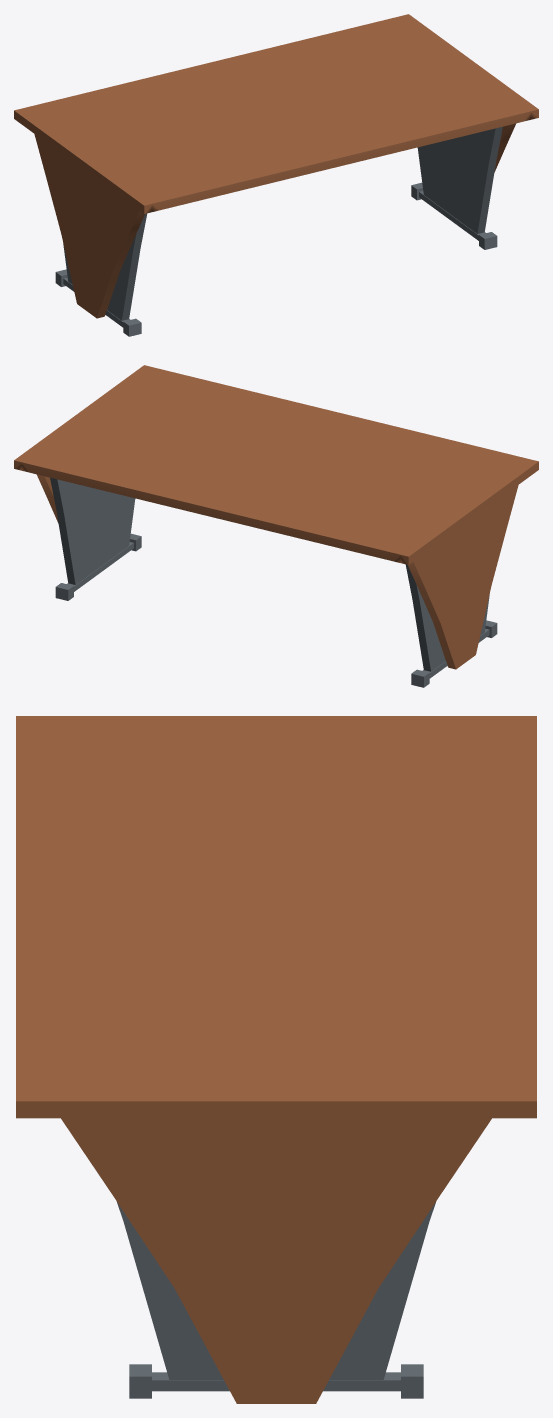
File: newbookarchive_desk_4.fbx
3 views of the same model, one above another, from view 1: azimuth 30°, elevation 25°; view 2: azimuth 150°, elevation 25°; view 3: azimuth 270°, elevation 25° (orthographic). The views are drawn at different scales.
Parts seen in each view (by area): view 1: newbookarchive_desk_4; view 2: newbookarchive_desk_4; view 3: newbookarchive_desk_4.
Part boxes in pixels (x1=…): newbookarchive_desk_4: x1=14, y1=14, x2=538, y2=336; newbookarchive_desk_4: x1=14, y1=365, x2=538, y2=687; newbookarchive_desk_4: x1=16, y1=716, x2=536, y2=1403.
Size of the model in its own units: 0.0155 by 0.00584 by 0.00888.
1 material, 1 textured.
